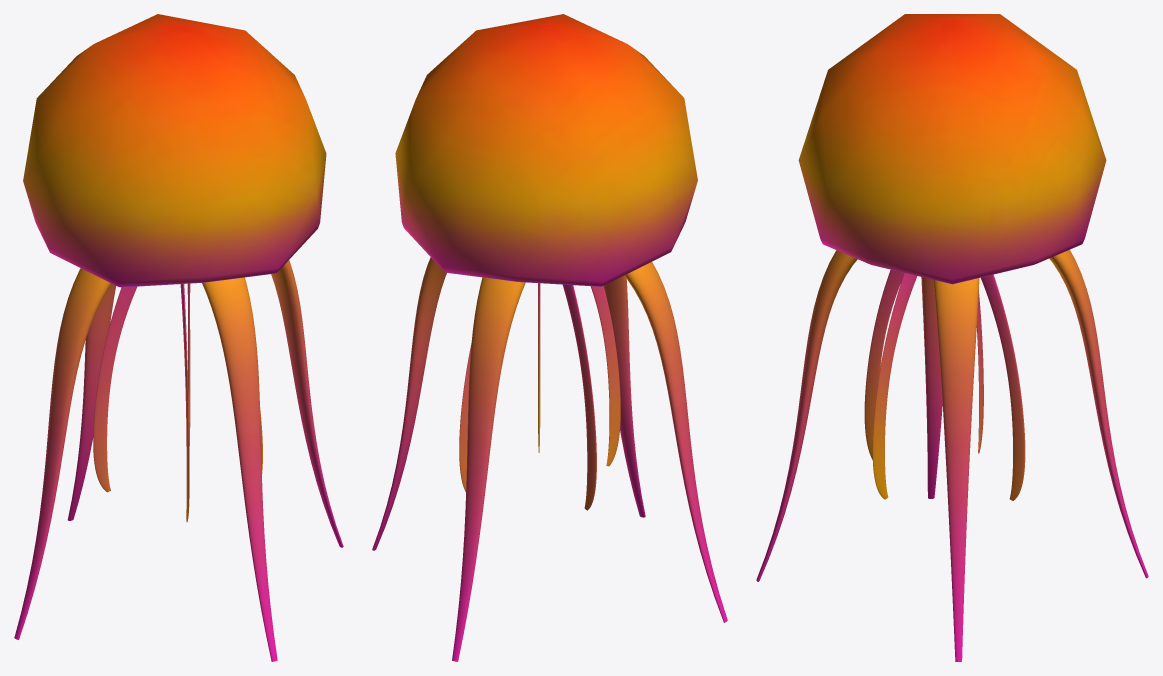
The model's file is jelly fish.fbx.
The picture shows the model from 3 angles, left to right: view 1: azimuth 30°, elevation 25°; view 2: azimuth 150°, elevation 25°; view 3: azimuth 270°, elevation 25°; orthographic projection.
Parts seen in each view (by area): view 1: NurbsPath.003; view 2: NurbsPath.003; view 3: NurbsPath.003.
Boxes of the visible parts, left/top/right/bottom form: NurbsPath.003: left=14, top=14, right=343, bottom=661; NurbsPath.003: left=372, top=14, right=727, bottom=661; NurbsPath.003: left=756, top=14, right=1148, bottom=661.
Bounding box in the file's own units: 254 × 401 × 255.
1 material, 1 textured.
